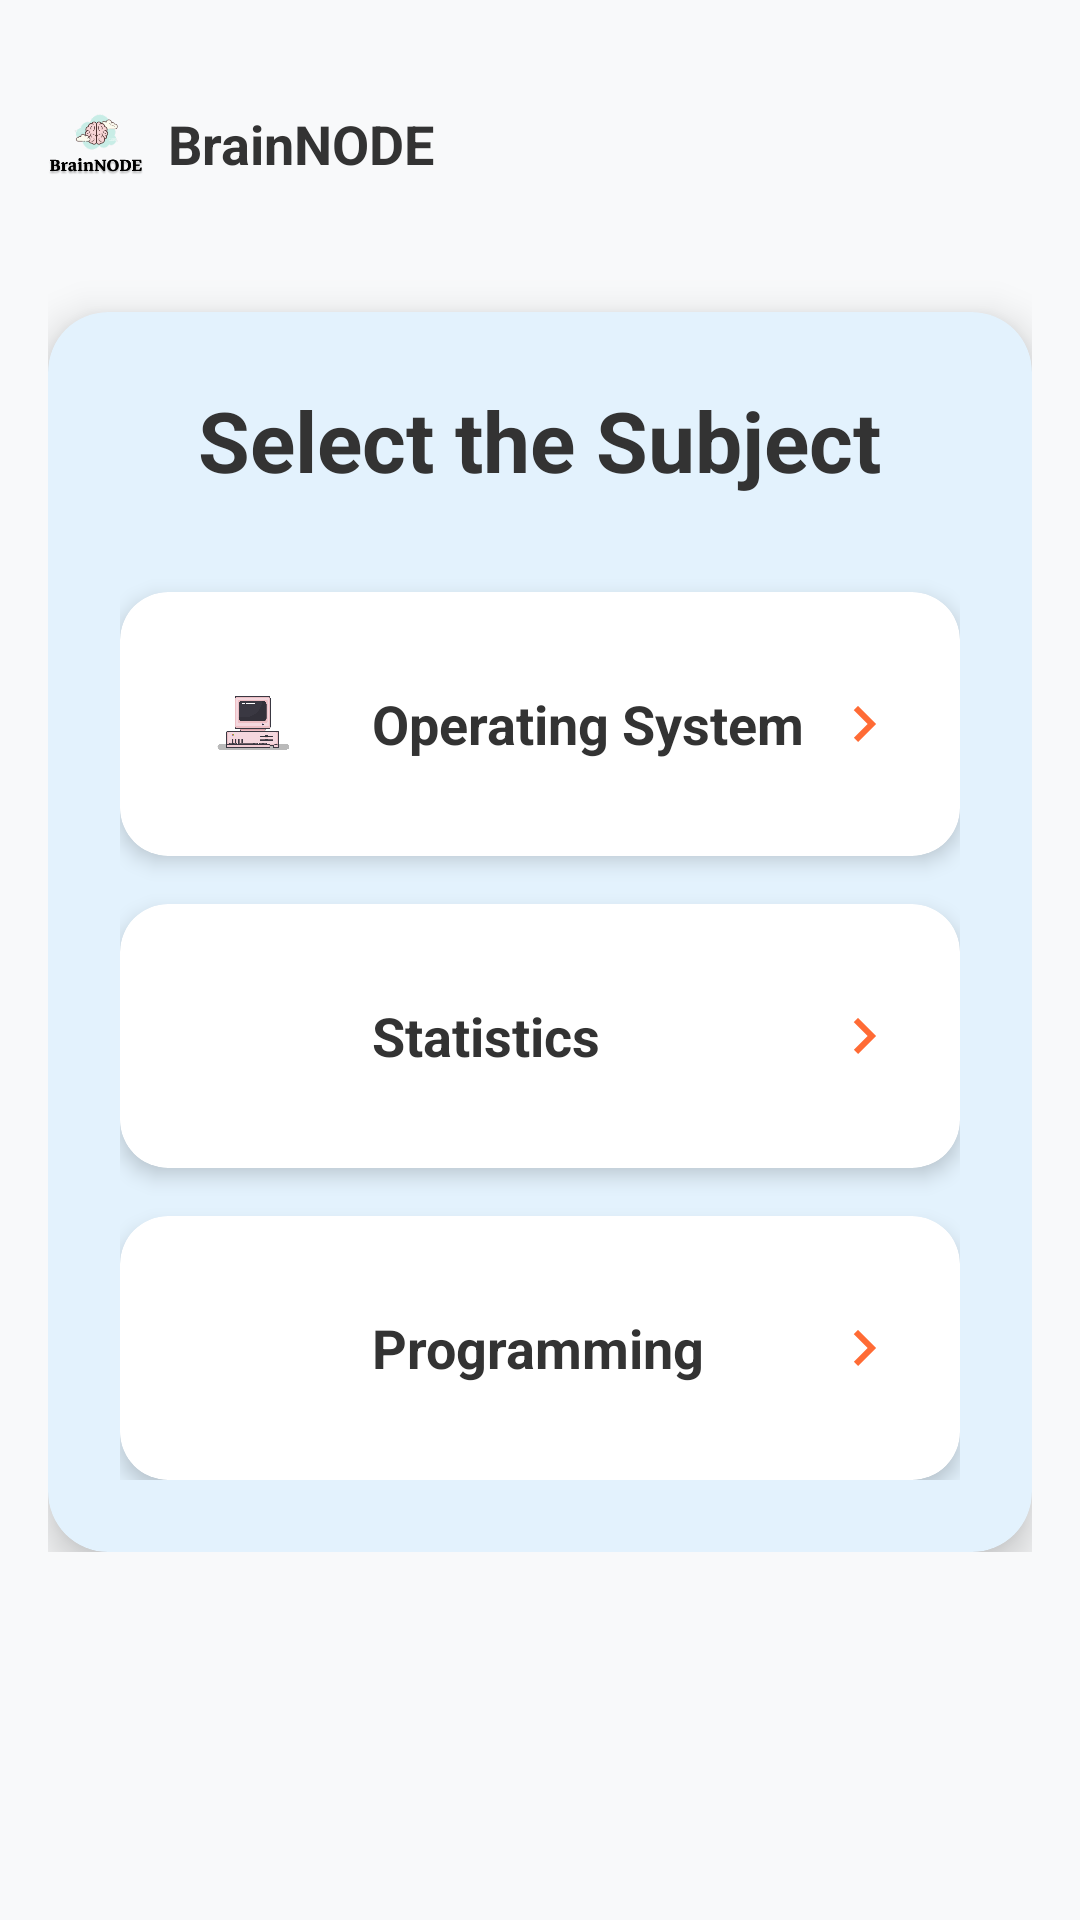

Locate icon controls on the screen. Image size 1080px×1920px, boxes as (x1,y1,x2,y2).
arrow right: (854,706,876,742), (854,1018,876,1054), (854,1330,876,1366)
